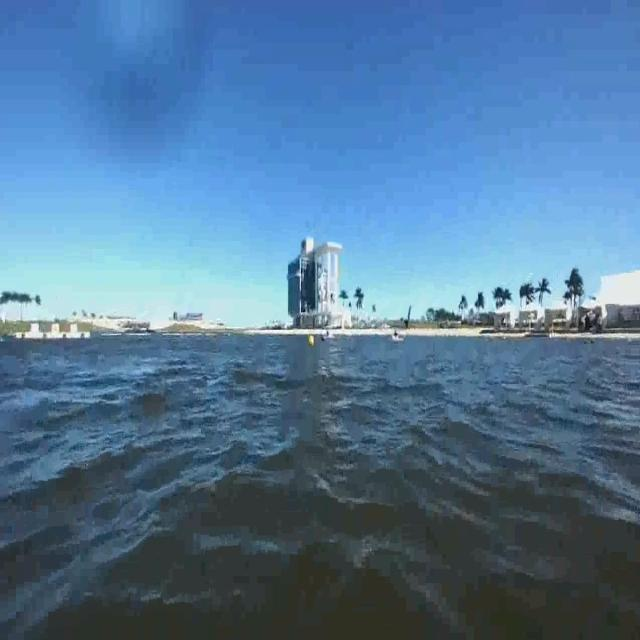yellow-buoy: (306, 334, 314, 348)
